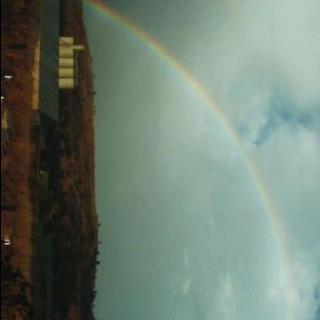Nimbostratus: (86, 0, 320, 320)
